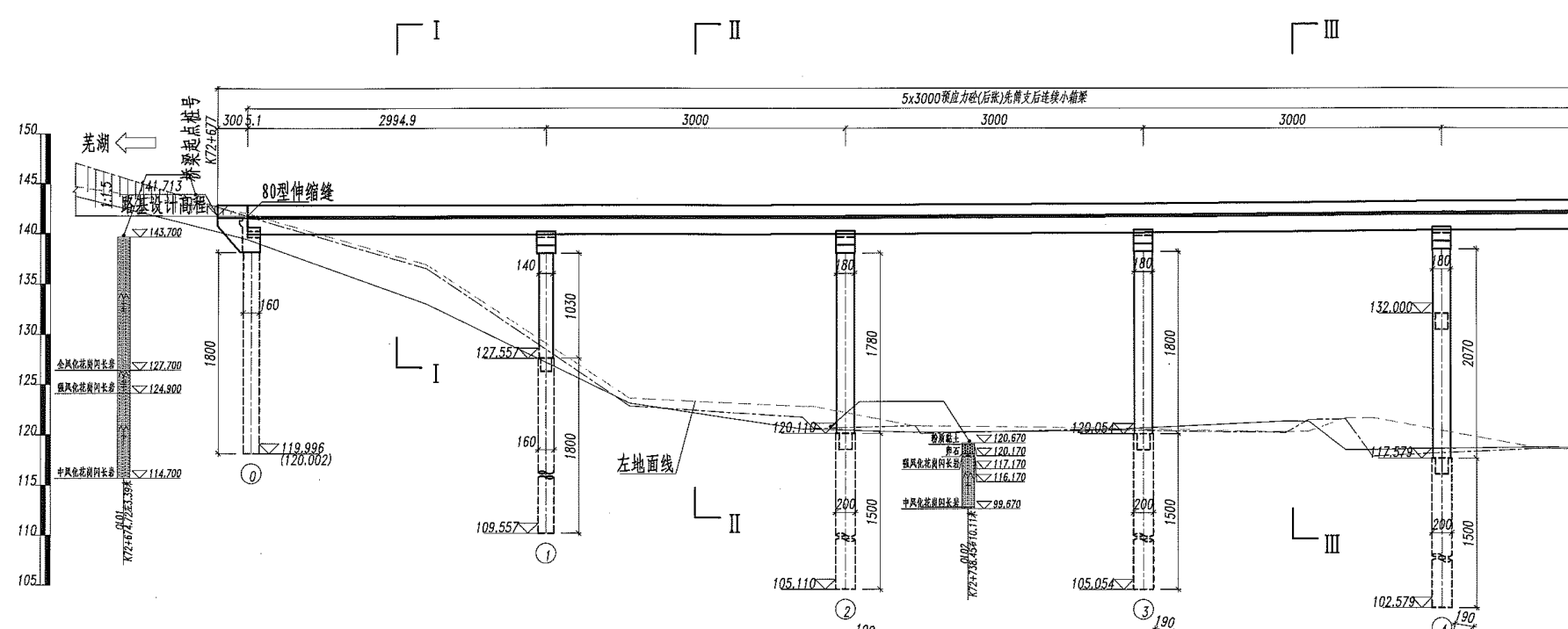C: (1354, 226, 1473, 629), (1056, 226, 1172, 626), (762, 229, 873, 626), (461, 226, 572, 574)
